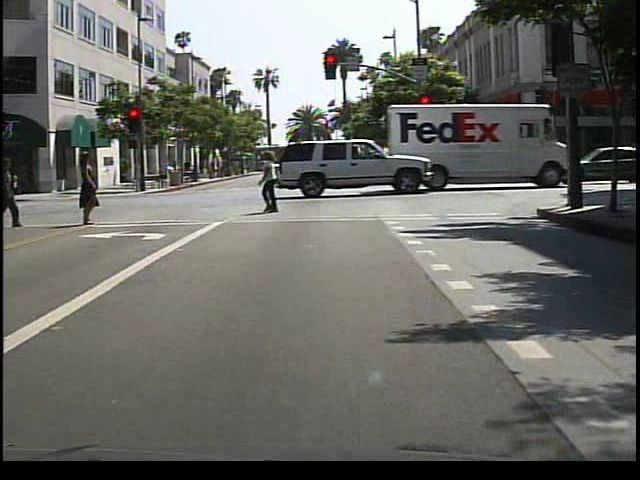person: (74, 147, 104, 228), (257, 149, 293, 216), (5, 153, 30, 229), (183, 157, 196, 183)
